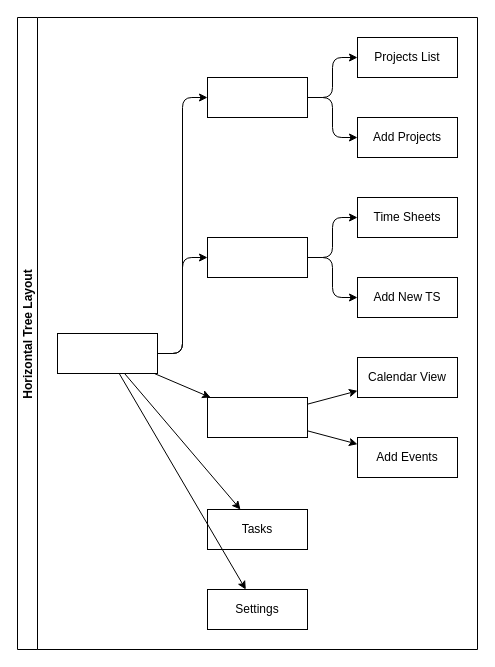
Some shapes in this 495 by 667 pixel diagram are drawn without their labels. The centre of each missing label's shape, as x and y in pixels:
"Calendar" goes at point (257, 417).
"Projects" goes at point (257, 97).
"Root" goes at point (107, 353).
"Time Sheet" goes at point (257, 257).
